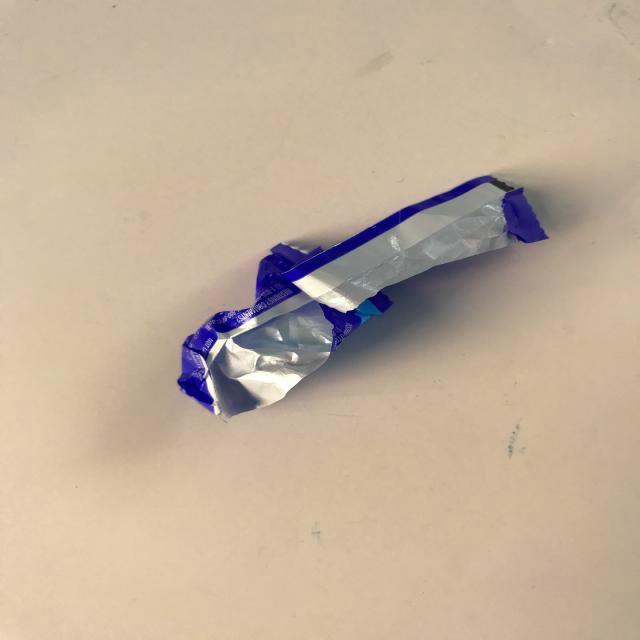plastic: (113, 134, 567, 462)
